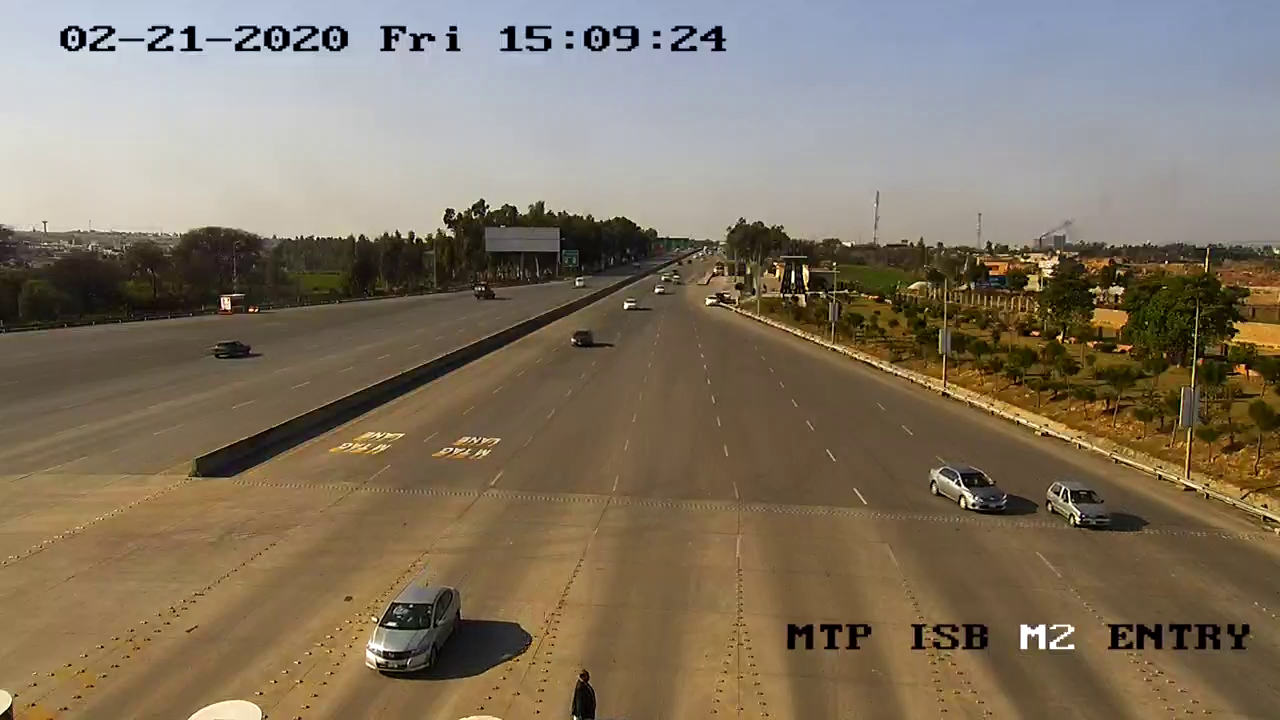f1: (358, 573, 470, 684), (922, 453, 1017, 522), (1040, 473, 1119, 538)
